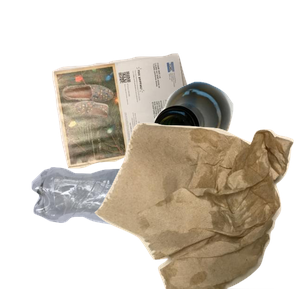glass: (151, 79, 300, 221)
paper: (49, 51, 235, 212)
plastic: (29, 165, 227, 300)
trash: (92, 120, 300, 300)
